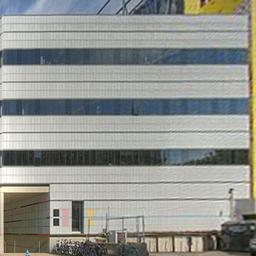building: (0, 13, 251, 240)
